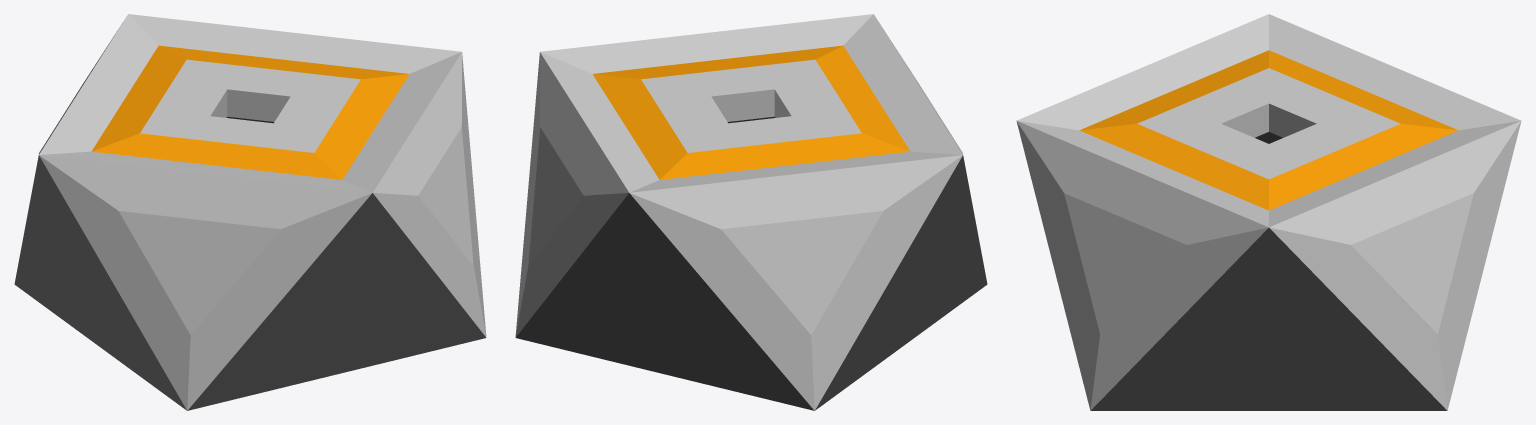
The model's file is Piece.fbx.
The picture shows the model from 3 angles, left to right: view 1: azimuth 30°, elevation 25°; view 2: azimuth 150°, elevation 25°; view 3: azimuth 270°, elevation 25°; orthographic projection. The views are drawn at different scales.
Visible parts, largest first — view 1: Cube.001; view 2: Cube.001; view 3: Cube.001.
Boxes of the visible parts, bbox=[...] form: Cube.001: bbox=[14, 14, 486, 410]; Cube.001: bbox=[515, 14, 987, 410]; Cube.001: bbox=[1016, 14, 1521, 410].
Bounding box in the file's own units: 217 × 102 × 217.
